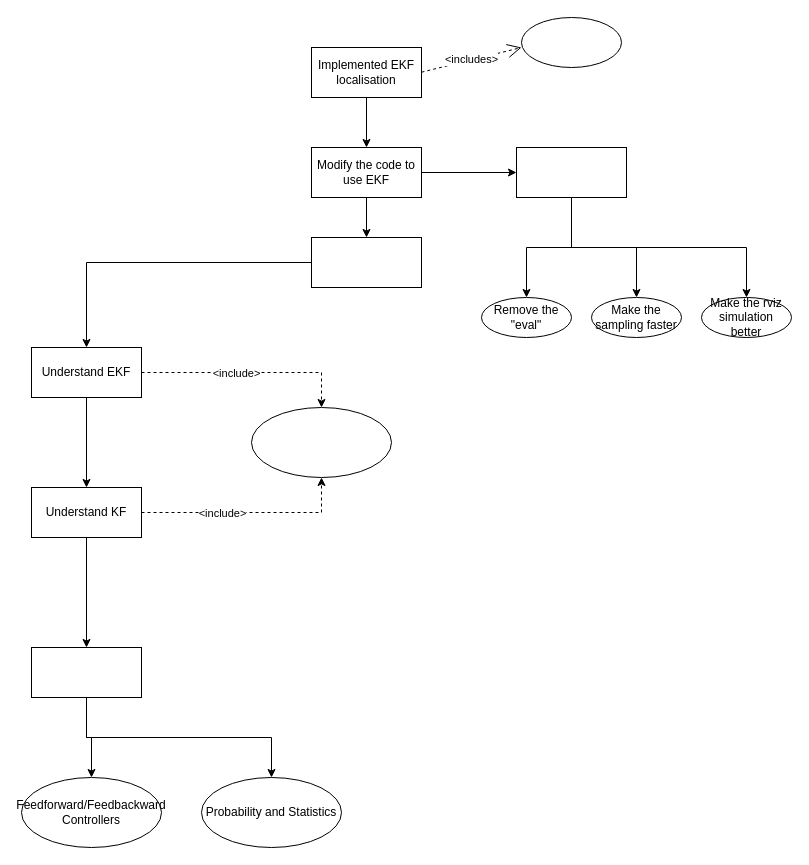
This 809x865 diagram has some shape labels left out. Here are the shapes that lost their labels. From the top down, the centre of each, then its label:
[571,42]: Measurments and Tests
[571,172]: Fix existing code flaws
[366,262]: Developed EKF equation
[321,442]: Go through the "example" code
[86,672]: Revise controll theory knowledge
